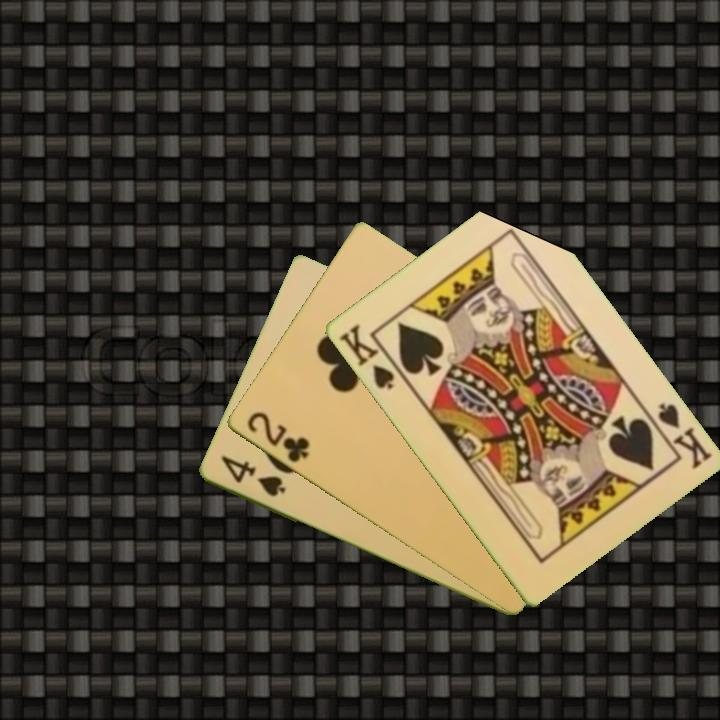2c: (243, 408, 313, 466)
4s: (217, 452, 288, 500)
Ks: (335, 320, 406, 393), (643, 399, 714, 472)
